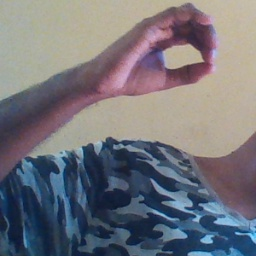O: (106, 3, 218, 101)
